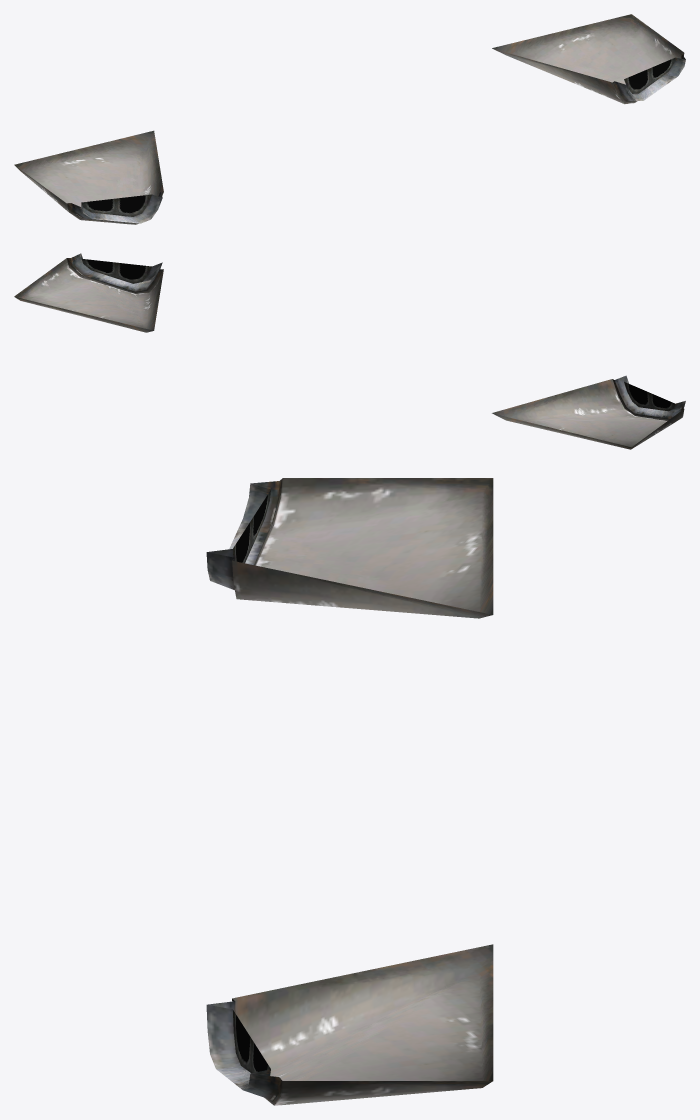
The model's file is hutt_fighter_heavy_missile_pod_s02_l0.fbx.
3 renders of one model, top to bottom at view 1: azimuth 30°, elevation 25°; view 2: azimuth 150°, elevation 25°; view 3: azimuth 270°, elevation 25°, orthographic. The views are drawn at different scales.
Visible parts, largest first — view 1: mesh_node; view 2: mesh_node; view 3: mesh_node.
Part boxes in pixels (left/top/right/bottom): mesh_node: left=14, top=14, right=685, bottom=224; mesh_node: left=14, top=253, right=685, bottom=449; mesh_node: left=206, top=478, right=493, bottom=1105.
Bounding box in the file's own units: 17.03 × 0.7738 × 3.43.
1 material, 1 textured.
